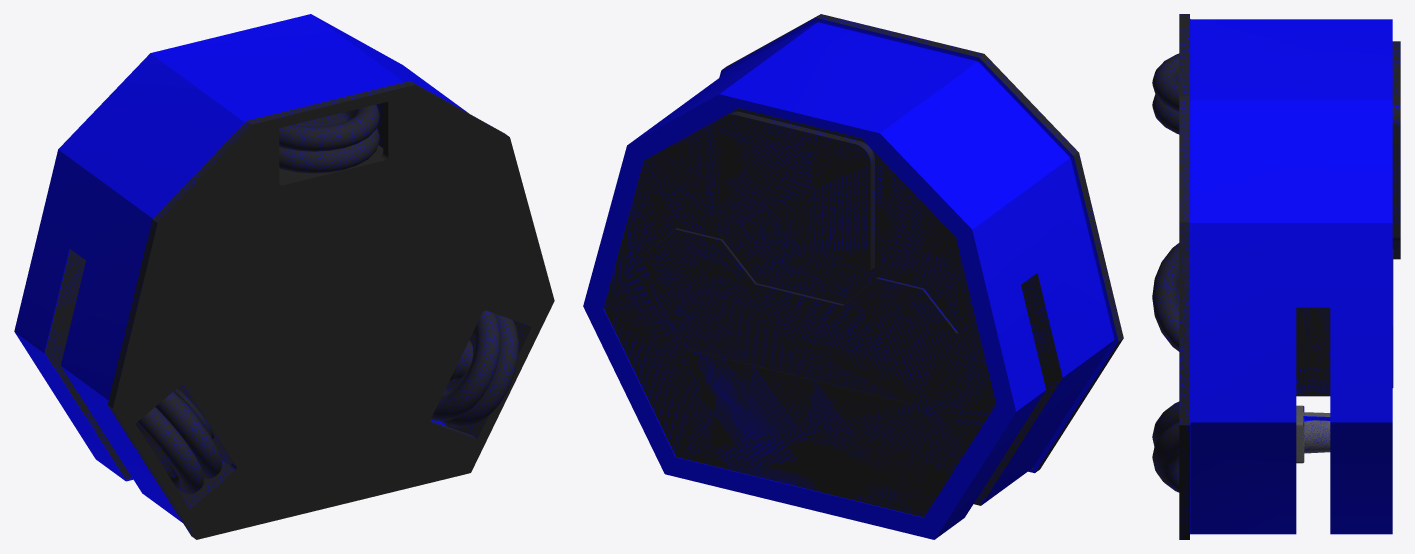
File: wpv3.dae
3 renders of one model, left to right at view 1: azimuth 30°, elevation 25°; view 2: azimuth 150°, elevation 25°; view 3: azimuth 270°, elevation 25°, orthographic. The views are drawn at different scales.
Parts seen in each view (by area): view 1: SketchUp (×10); view 2: SketchUp (×6); view 3: SketchUp (×9).
Part boxes in pixels (box(x1,y1,x2,y2)): SketchUp (×10): box(14, 14, 554, 539); SketchUp (×6): box(583, 14, 1123, 539); SketchUp (×9): box(1152, 14, 1400, 539).
Bounding box in the file's own units: 23.08 × 10.87 × 20.06.
